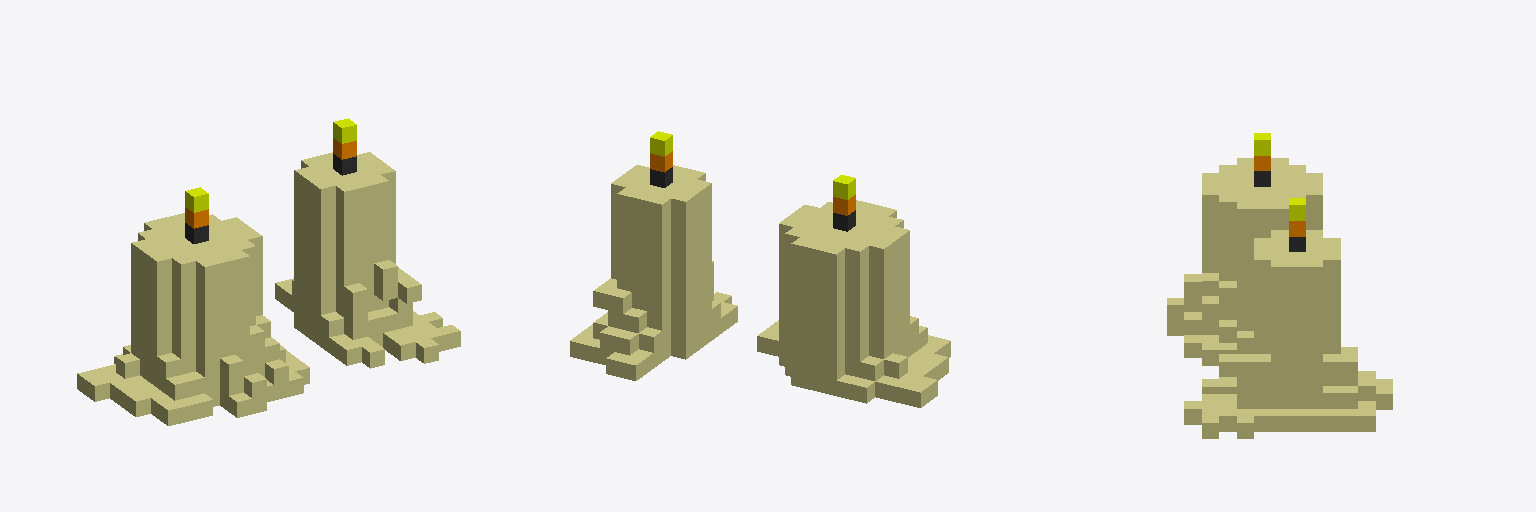
The picture shows the model from 3 angles: view 1: azimuth 30°, elevation 25°; view 2: azimuth 150°, elevation 25°; view 3: azimuth 270°, elevation 25°; orthographic projection.
Parts seen in each view (by area): view 1: object 1; view 2: object 1; view 3: object 1.
Boxes of the visible parts, <box> form: object 1: <box>77,118,460,425</box>; object 1: <box>570,131,950,407</box>; object 1: <box>1167,133,1392,438</box>.
Bounding box in the file's own units: 2.2 × 1.3 × 1.3.
Materials: 1 (1 with a texture image).